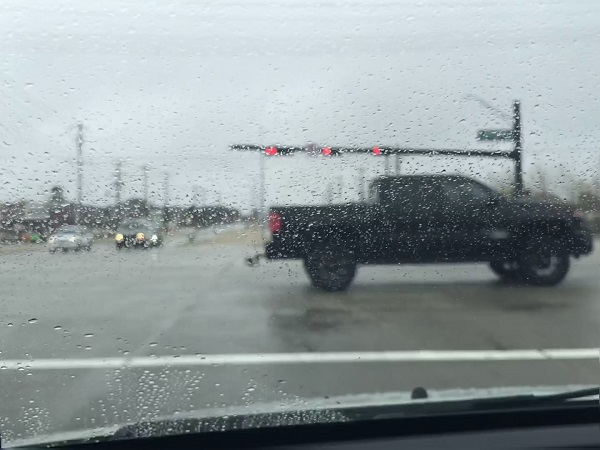car: (47, 226, 95, 252), (114, 222, 154, 246)
traffic light: (366, 144, 382, 157), (259, 145, 278, 155), (318, 146, 331, 157)
truck: (262, 175, 594, 293)
